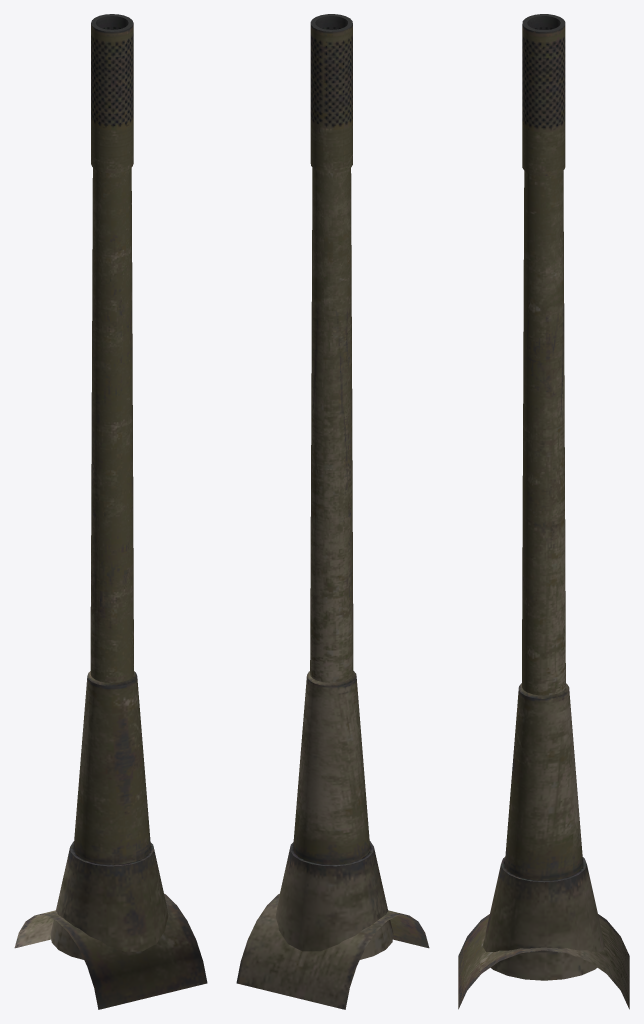
The model's file is Gun_04.glb.
3 renders of one model, left to right at view 1: azimuth 30°, elevation 25°; view 2: azimuth 150°, elevation 25°; view 3: azimuth 270°, elevation 25°, orthographic.
Parts seen in each view (by area): view 1: set_0_group_0; view 2: set_0_group_0; view 3: set_0_group_0.
Boxes of the visible parts, x1,y1,x2,y2 form: set_0_group_0: [14, 14, 207, 1009]; set_0_group_0: [236, 14, 429, 1009]; set_0_group_0: [458, 14, 629, 1009].
Bounding box in the file's own units: 0.3998 × 3.3 × 0.5331.
Materials: 1 (1 with a texture image).
